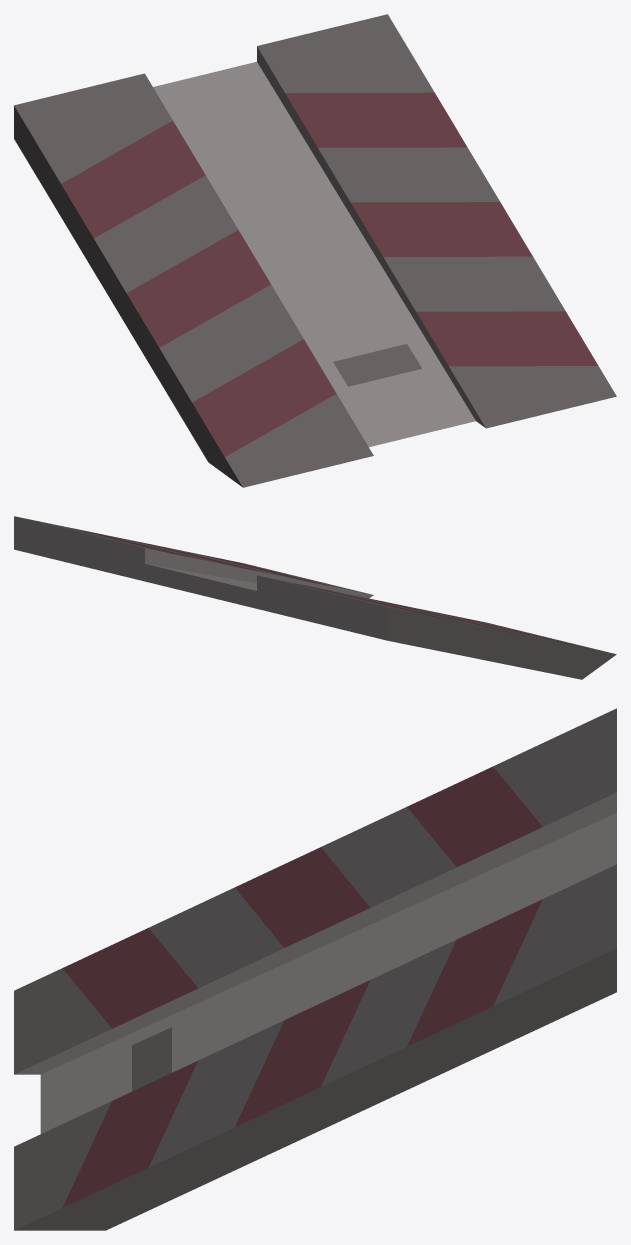
File: scifi-ramp.fbx
3 views of the same model, one above another, from view 1: azimuth 30°, elevation 25°; view 2: azimuth 150°, elevation 25°; view 3: azimuth 270°, elevation 25° (orthographic). The views are drawn at different scales.
Parts seen in each view (by area): view 1: scifi-ramp; view 2: scifi-ramp; view 3: scifi-ramp.
Part boxes in pixels (box(x1,y1,x2,y2)): scifi-ramp: box(14, 14, 616, 487); scifi-ramp: box(14, 516, 616, 679); scifi-ramp: box(14, 708, 616, 1230).
Bounding box in the file's own units: 1.88 × 1.03 × 2.
